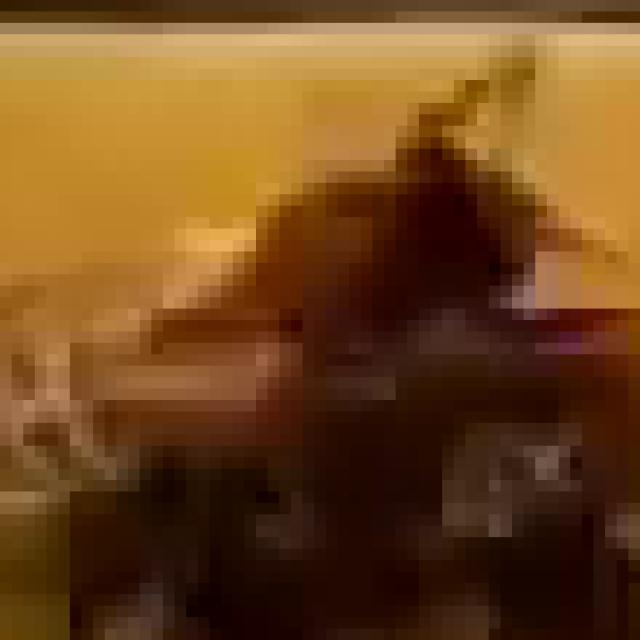honeybee: (15, 123, 554, 565)
